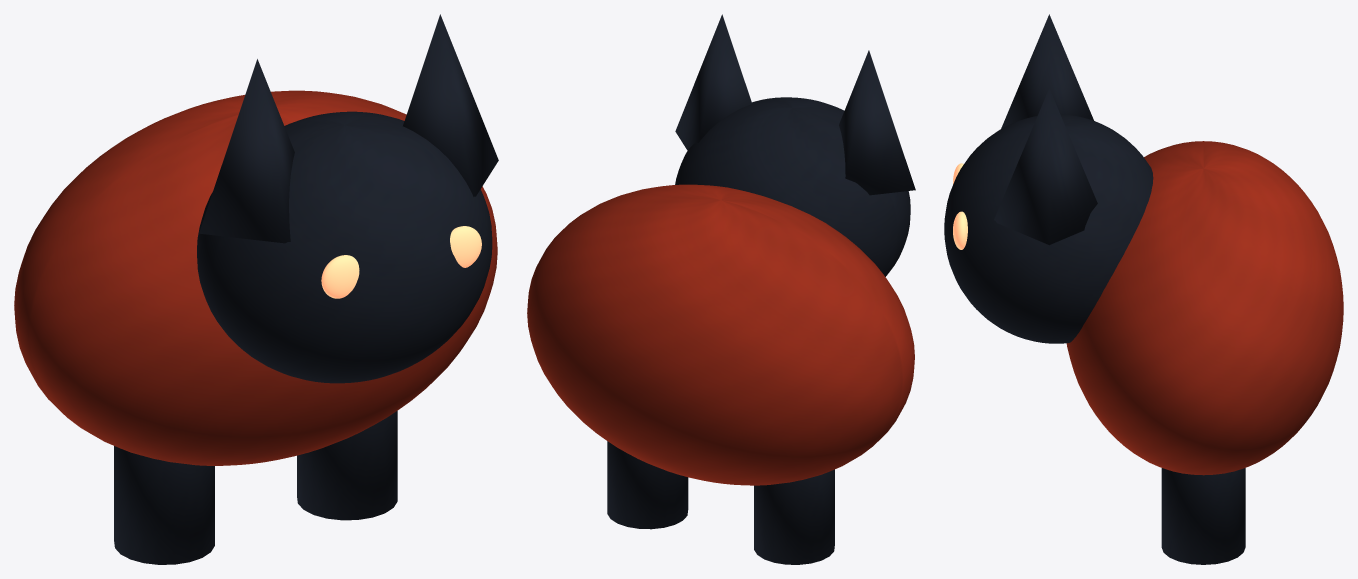
File: Panther.glb
3 renders of one model, left to right at view 1: azimuth 30°, elevation 25°; view 2: azimuth 150°, elevation 25°; view 3: azimuth 270°, elevation 25°, orthographic. The views are drawn at different scales.
Parts seen in each view (by area): view 1: Body, Head, Leg, Ear, Leg.002, Ear.001, Eye, Eye.001; view 2: Body, Head, Leg, Ear, Leg.002, Ear.001; view 3: Body, Head, Ear.001, Leg.002, Ear.
Boxes of the visible parts, x1,y1,x2,y2 form: Body: [14, 90, 497, 465]; Head: [197, 111, 492, 383]; Leg: [114, 446, 214, 564]; Ear: [199, 59, 294, 243]; Leg.002: [297, 411, 397, 520]; Ear.001: [403, 14, 498, 196]; Eye: [321, 255, 359, 298]; Eye.001: [450, 226, 481, 267]; Body: [527, 184, 914, 485]; Head: [675, 97, 910, 276]; Leg: [754, 469, 834, 564]; Ear: [839, 50, 915, 195]; Leg.002: [607, 441, 688, 529]; Ear.001: [675, 14, 752, 150]; Body: [1066, 141, 1343, 475]; Head: [944, 114, 1153, 343]; Ear.001: [994, 88, 1097, 245]; Leg.002: [1161, 468, 1245, 564]; Ear: [1001, 14, 1093, 128].
Bounding box in the file's own units: 1.24 × 1.44 × 1.14.
Materials: 3 (2 with a texture image).
